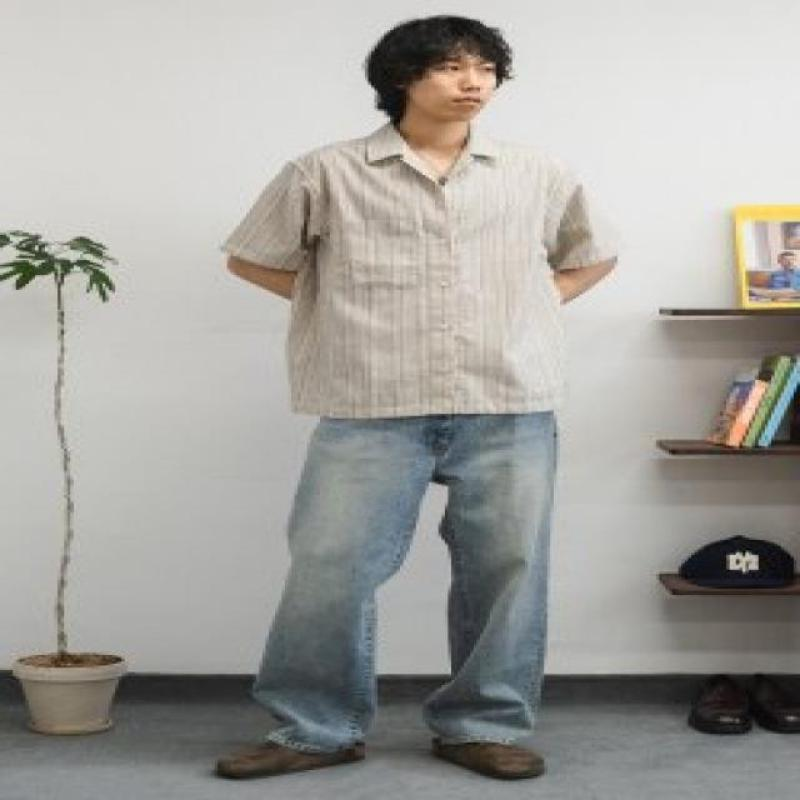short sleeve shirt: (217, 120, 622, 419)
trousers: (250, 403, 558, 755)
